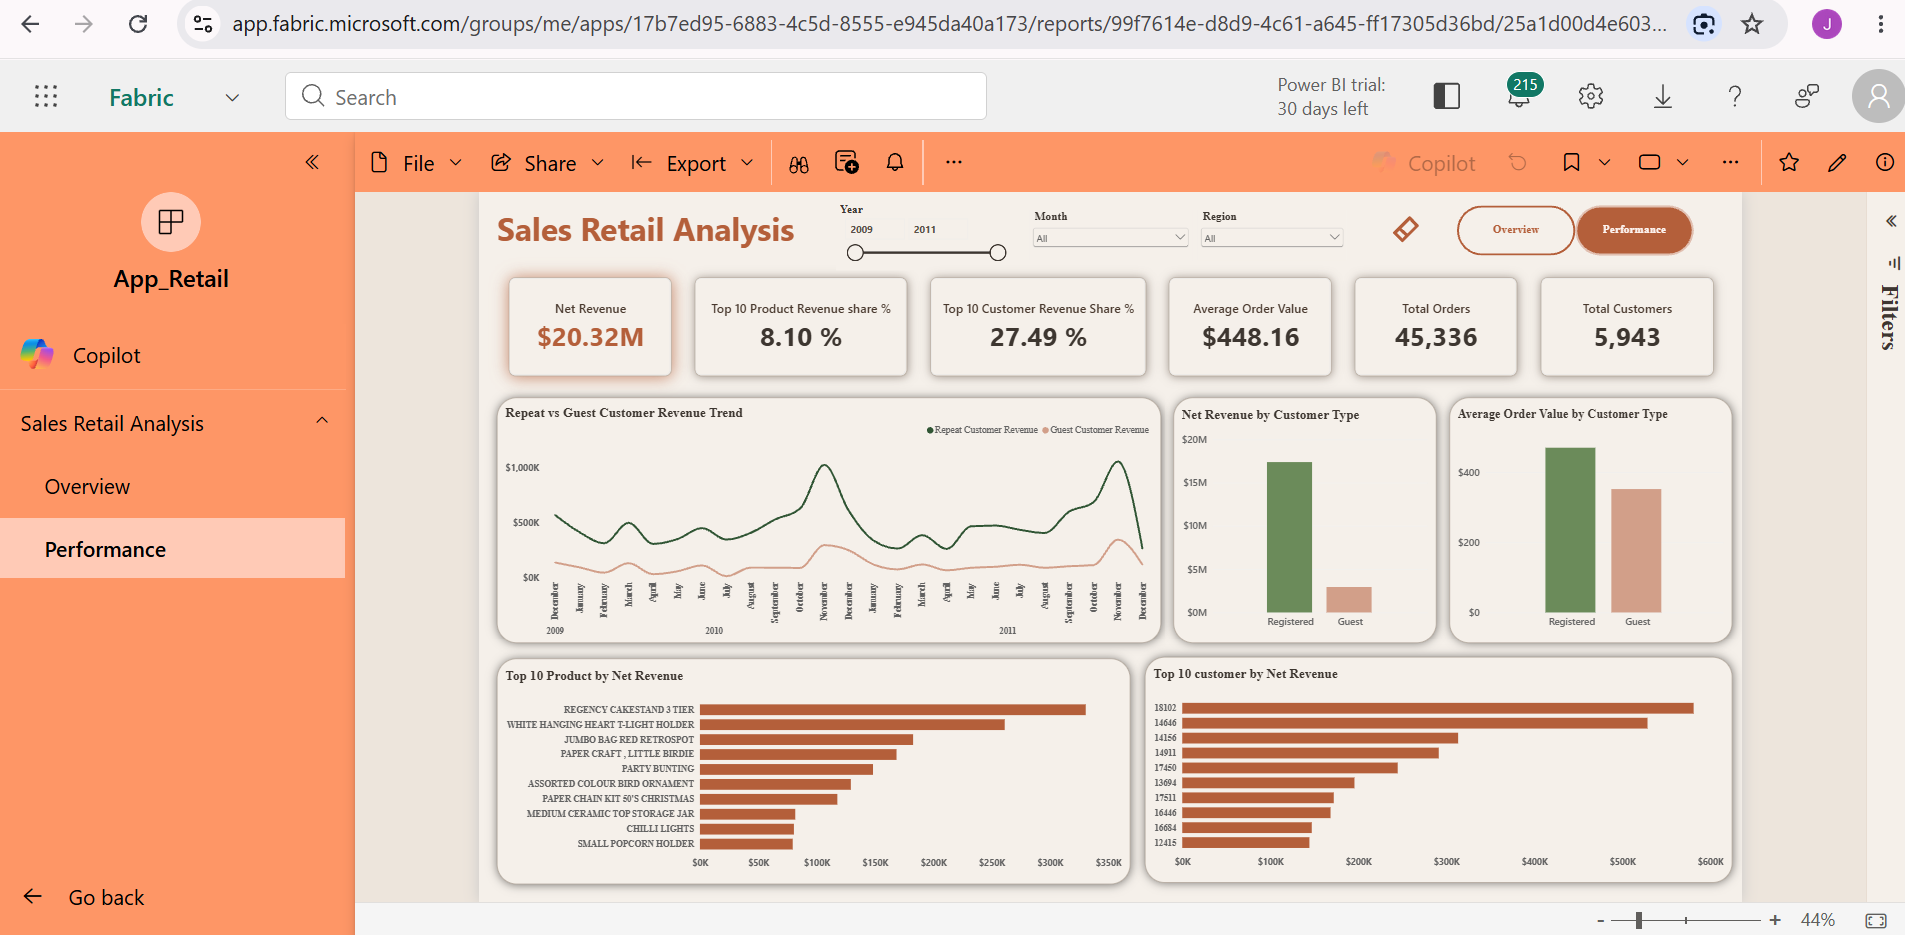

The page's visual inventory and layout, read from the dashboard file:
{"tool":"powerbi","page":{"name":"Performance","canvas":[1920,1080],"ordinal":1},"visuals":[{"type":"textbox","box":[26.7,23.3,470,90],"z":0},{"type":"clusteredBarChart","title":"Top 10 Product by Net Revenue","fields":{"Category":["dim_product.description"],"Y":["fact_sales.Net Revenue"]},"box":[26.7,710,963.3,343.3],"z":1000},{"type":"lineChart","title":"Repeat vs Guest Customer Revenue Trend","fields":{"Category":["dim_date.year","dim_date.month_name"],"Y":["dim_customer.Repeat Customer Revenue","fact_sales.Guest Customer Revenue"]},"box":[26.7,313.3,1010,373.3],"z":2000},{"type":"cardVisual","fields":{"Data":["dim_customer.Top 10 Product Revenue %"]},"box":[328,130,322.5,150],"z":3000},{"type":"cardVisual","fields":{"Data":["fact_sales.Customer Count"]},"box":[1615,130,262.5,150],"z":4000},{"type":"cardVisual","fields":{"Data":["fact_sales.order count"]},"box":[1332.8,130,246.7,150],"z":5000},{"type":"slicer","title":"Year","fields":{"Values":["dim_date.year"]},"box":[542.5,15,262.5,102.5],"z":6000},{"type":"slicer","fields":{"Values":["dim_date.month_name"]},"box":[837.5,27.5,247.1,77.1],"z":7000},{"type":"slicer","fields":{"Values":["dim_region.region"]},"box":[1092.5,27.5,226.7,76.7],"z":8000},{"type":"actionButton","box":[1367.5,17.5,86.7,76.7],"z":9000},{"type":"pageNavigator","box":[1486.7,20,360,76.7],"z":10000},{"type":"clusteredColumnChart","title":"Net Revenue by Customer Type","fields":{"Category":["dim_customer.customer_type"],"Y":["fact_sales.Net Revenue"]},"box":[1056.7,313.3,400,373.3],"z":11000},{"type":"clusteredColumnChart","title":"Average Order Value by Customer Type","fields":{"Category":["dim_customer.customer_type"],"Y":["fact_sales.Average Order Value"]},"box":[1476.7,313.3,430,373.3],"z":12000},{"type":"cardVisual","fields":{"Data":["fact_sales.Net Revenue"]},"box":[45,130,247.5,150],"z":13000},{"type":"clusteredBarChart","title":"Top 10 customer by Net Revenue","fields":{"Category":["dim_customer.customer_id"],"Y":["fact_sales.Net Revenue"]},"box":[1013.3,706.7,893.3,343.3],"z":14000},{"type":"cardVisual","fields":{"Data":["dim_customer.Top 10 Customer Revenue %"]},"box":[686,130,328.3,150],"z":15000},{"type":"cardVisual","fields":{"Data":["fact_sales.Average Order Value"]},"box":[1049.8,130,247.5,150],"z":16000}]}

Visuals, with their boxes on the page's 1920x1080 design canvas (x1, y1, x2, y2). These are canvas units, not pixel positions in the 1905x935 screenshot, which may show the page scaled, cropped or inside an application window:
textbox: bbox=[27, 23, 497, 113]
"Top 10 Product by Net Revenue" clusteredBarChart: bbox=[27, 710, 990, 1053]
"Repeat vs Guest Customer Revenue Trend" lineChart: bbox=[27, 313, 1037, 687]
cardVisual - dim_customer.Top 10 Product Revenue %: bbox=[328, 130, 650, 280]
cardVisual - fact_sales.Customer Count: bbox=[1615, 130, 1878, 280]
cardVisual - fact_sales.order count: bbox=[1333, 130, 1580, 280]
"Year" slicer: bbox=[542, 15, 805, 118]
slicer - dim_date.month_name: bbox=[838, 28, 1085, 105]
slicer - dim_region.region: bbox=[1092, 28, 1319, 104]
actionButton: bbox=[1368, 18, 1454, 94]
pageNavigator: bbox=[1487, 20, 1847, 97]
"Net Revenue by Customer Type" clusteredColumnChart: bbox=[1057, 313, 1457, 687]
"Average Order Value by Customer Type" clusteredColumnChart: bbox=[1477, 313, 1907, 687]
cardVisual - fact_sales.Net Revenue: bbox=[45, 130, 292, 280]
"Top 10 customer by Net Revenue" clusteredBarChart: bbox=[1013, 707, 1907, 1050]
cardVisual - dim_customer.Top 10 Customer Revenue %: bbox=[686, 130, 1014, 280]
cardVisual - fact_sales.Average Order Value: bbox=[1050, 130, 1297, 280]
